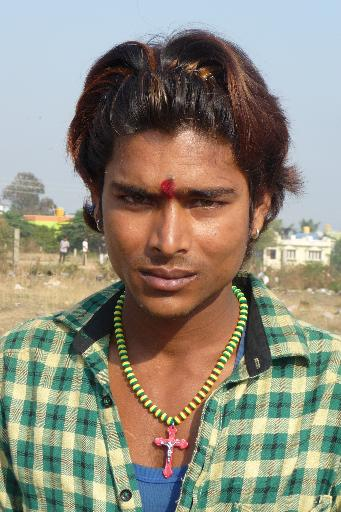left_eye: (189, 197, 233, 213)
left_lip_corner: (190, 269, 203, 284)
right_eye: (117, 192, 155, 208)
right_lip_corner: (136, 267, 146, 278)
